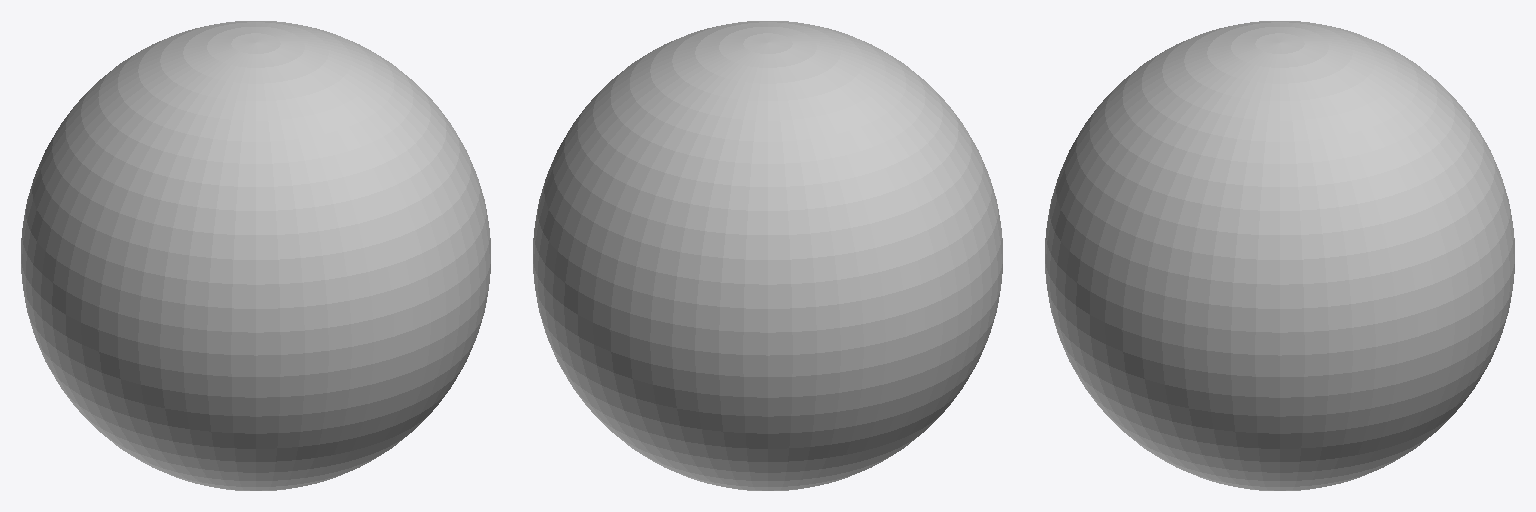
The model's file is sun1.obj.
3 renders of one model, left to right at view 1: azimuth 30°, elevation 25°; view 2: azimuth 150°, elevation 25°; view 3: azimuth 270°, elevation 25°, orthographic.
Parts seen in each view (by area): view 1: sol.001; view 2: sol.001; view 3: sol.001.
Boxes of the visible parts, <box> form: sol.001: <box>21,21,490,490</box>; sol.001: <box>533,21,1002,490</box>; sol.001: <box>1045,21,1514,490</box>.
Bounding box in the file's own units: 4.18 × 4.18 × 4.18.